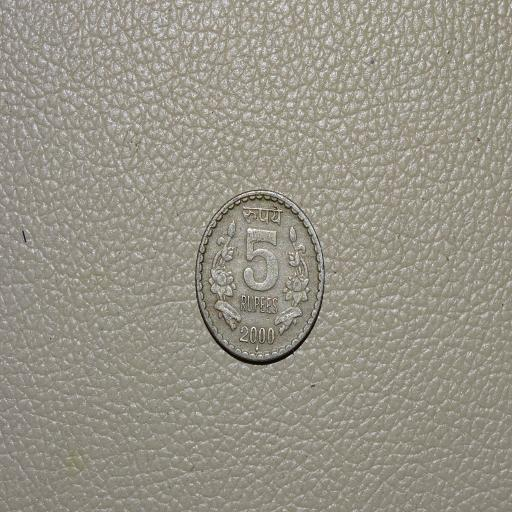rupee5: (193, 191, 326, 365)
